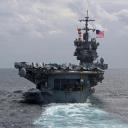Portanaves: (15, 9, 110, 107)
